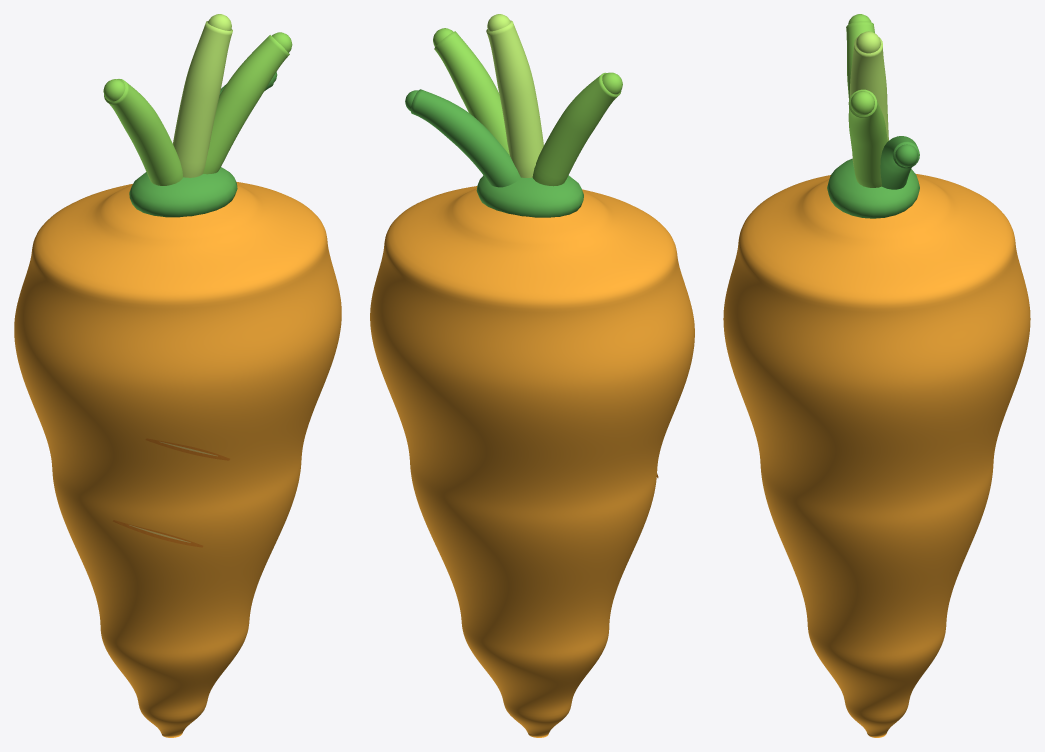
File: Crop_Carrot_Normal_v001_reference_r02.fbx
3 views of the same model, side by side, from view 1: azimuth 30°, elevation 25°; view 2: azimuth 150°, elevation 25°; view 3: azimuth 270°, elevation 25° (orthographic). The views are drawn at different scales.
Visible parts, largest first — view 1: Crop_Carrot_Normal_v001_Body_Reference_r02, LeafStem_CenterTall_Reference_r02, LeafStem_RightTall_Reference_r02, LeafStem_GlossyRootKnot_Reference_r02, LeafStem_LeftBack_Reference_r02; view 2: Crop_Carrot_Normal_v001_Body_Reference_r02, LeafStem_CenterTall_Reference_r02, LeafStem_RightLow_Reference_r02, LeafStem_LeftBack_Reference_r02, LeafStem_RightTall_Reference_r02, LeafStem_GlossyRootKnot_Reference_r02; view 3: Crop_Carrot_Normal_v001_Body_Reference_r02, LeafStem_GlossyRootKnot_Reference_r02, LeafStem_RightTall_Reference_r02, LeafStem_CenterTall_Reference_r02, LeafStem_RightLow_Reference_r02, LeafStem_LeftBack_Reference_r02.
Part boxes in pixels (x1=…): Crop_Carrot_Normal_v001_Body_Reference_r02: x1=14, y1=181, x2=341, y2=737; LeafStem_CenterTall_Reference_r02: x1=173, y1=21, x2=232, y2=177; LeafStem_RightTall_Reference_r02: x1=203, y1=35, x2=289, y2=174; LeafStem_GlossyRootKnot_Reference_r02: x1=129, y1=167, x2=237, y2=217; LeafStem_LeftBack_Reference_r02: x1=104, y1=79, x2=182, y2=185; Crop_Carrot_Normal_v001_Body_Reference_r02: x1=370, y1=186, x2=694, y2=737; LeafStem_CenterTall_Reference_r02: x1=486, y1=20, x2=543, y2=177; LeafStem_RightLow_Reference_r02: x1=411, y1=89, x2=520, y2=187; LeafStem_LeftBack_Reference_r02: x1=532, y1=72, x2=621, y2=186; LeafStem_RightTall_Reference_r02: x1=434, y1=31, x2=509, y2=155; LeafStem_GlossyRootKnot_Reference_r02: x1=476, y1=175, x2=583, y2=217; Crop_Carrot_Normal_v001_Body_Reference_r02: x1=723, y1=173, x2=1030, y2=737; LeafStem_GlossyRootKnot_Reference_r02: x1=827, y1=158, x2=919, y2=218; LeafStem_RightTall_Reference_r02: x1=848, y1=89, x2=887, y2=187; LeafStem_CenterTall_Reference_r02: x1=850, y1=36, x2=888, y2=166; LeafStem_RightLow_Reference_r02: x1=880, y1=136, x2=919, y2=189; LeafStem_LeftBack_Reference_r02: x1=846, y1=21, x2=874, y2=99.
Size of the model in its own units: 121 by 284 by 109.
